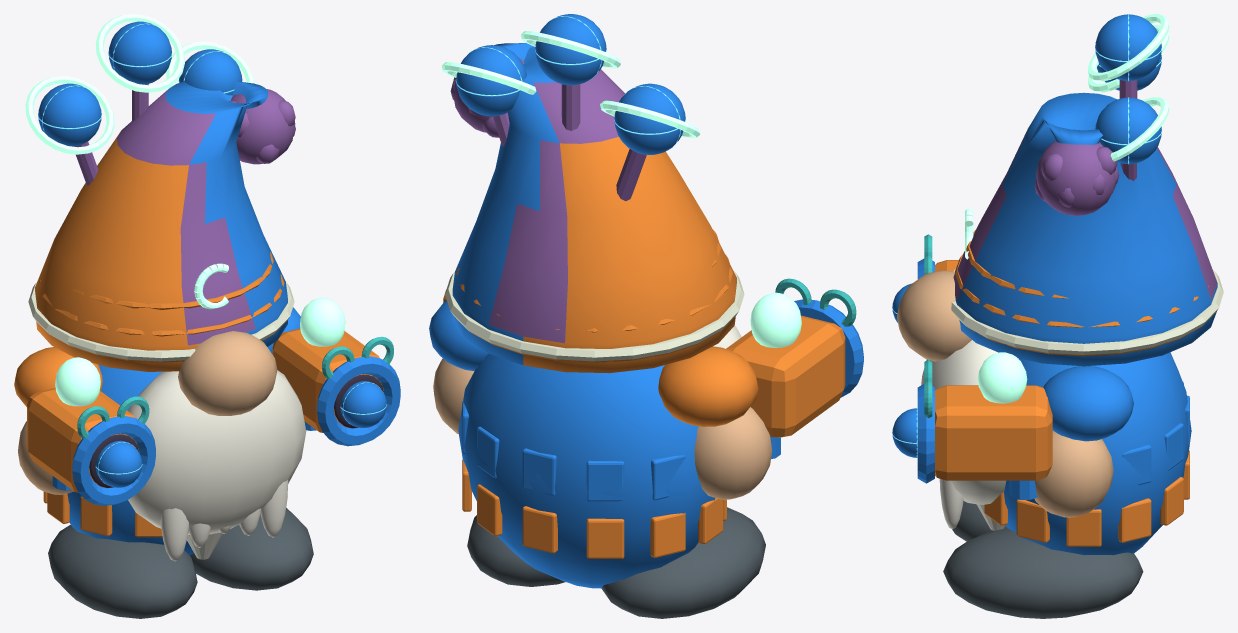
File: gnome-fusion-multi-necro-ricochet.glb
3 views of the same model, side by side, from view 1: azimuth 30°, elevation 25°; view 2: azimuth 150°, elevation 25°; view 3: azimuth 270°, elevation 25° (orthographic). The views are drawn at different scales.
Parts seen in each view (by area): view 1: gnome-fusion-multi-necro-ricochet; view 2: gnome-fusion-multi-necro-ricochet; view 3: gnome-fusion-multi-necro-ricochet.
Boxes of the visible parts, x1,y1,x2,y2 form: gnome-fusion-multi-necro-ricochet: (14, 14, 400, 618); gnome-fusion-multi-necro-ricochet: (429, 14, 863, 618); gnome-fusion-multi-necro-ricochet: (892, 14, 1223, 618).
Bounding box in the file's own units: 1.07 × 1.67 × 0.8947.
